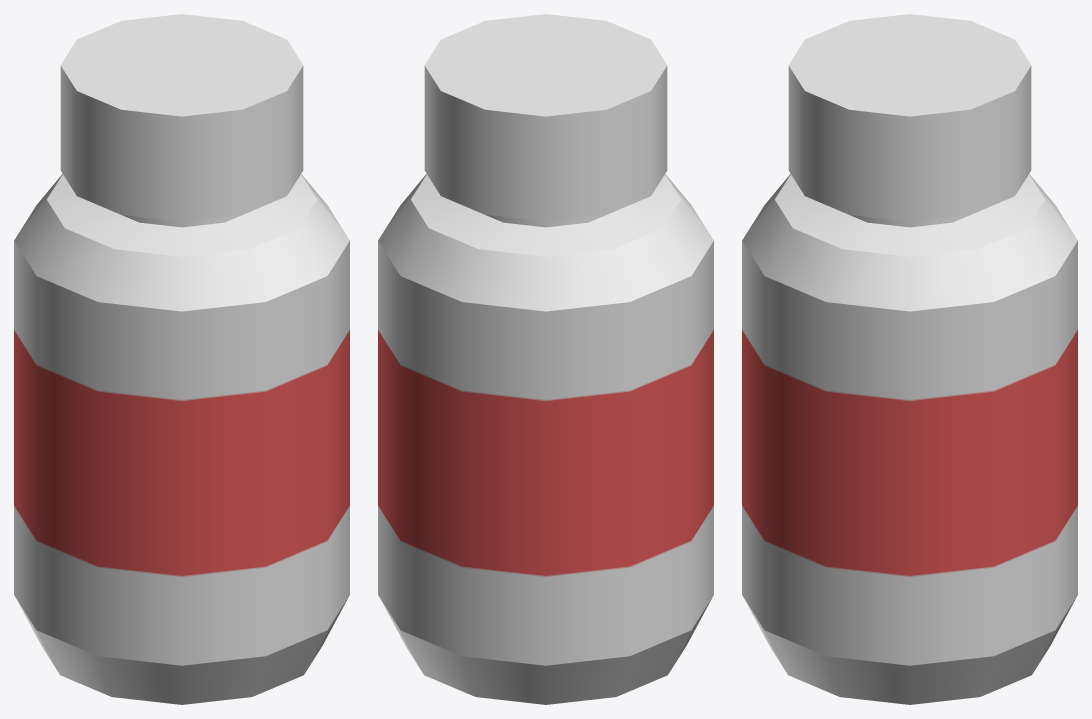
Rendered from medicine.fbx.
3 renders of one model, left to right at view 1: azimuth 30°, elevation 25°; view 2: azimuth 150°, elevation 25°; view 3: azimuth 270°, elevation 25°, orthographic.
Parts seen in each view (by area): view 1: Cylinder003; view 2: Cylinder003; view 3: Cylinder003.
Part boxes in pixels (x1,y1,x2,y2): Cylinder003: (14,14,349,704); Cylinder003: (378,14,713,704); Cylinder003: (742,14,1077,704).
Bounding box in the file's own units: 10 × 19.06 × 10.
